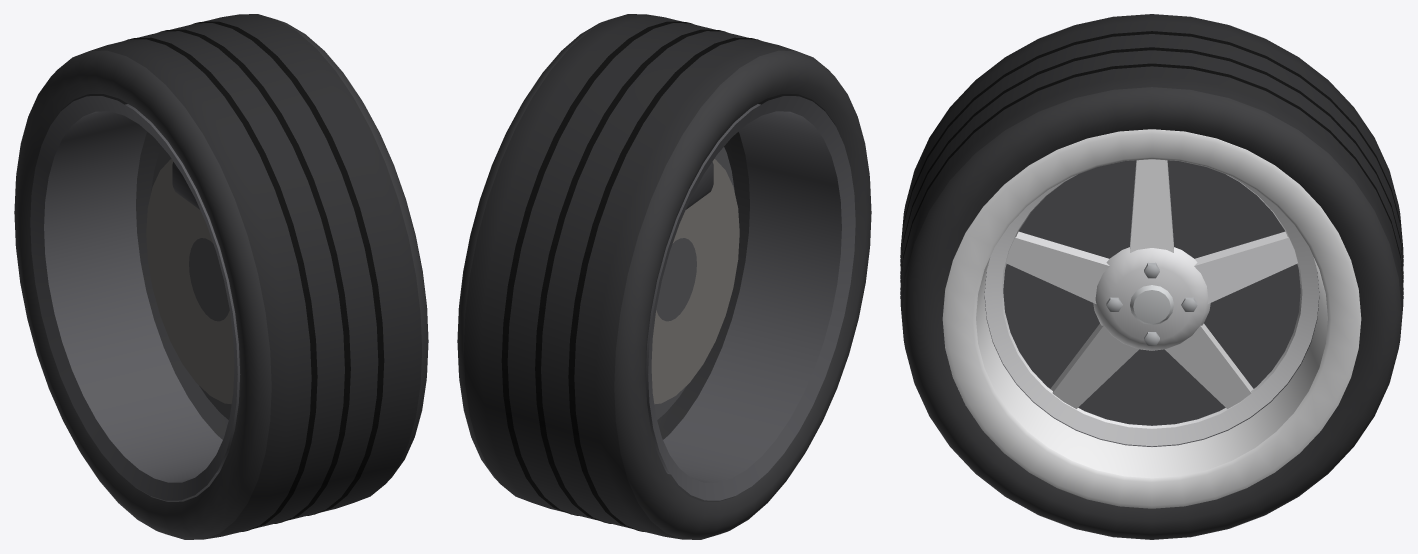
File: wheel_lada_5spoke.glb
3 renders of one model, left to right at view 1: azimuth 30°, elevation 25°; view 2: azimuth 150°, elevation 25°; view 3: azimuth 270°, elevation 25°, orthographic.
Visible parts, largest first — view 1: wheel_lada_5spoke; view 2: wheel_lada_5spoke; view 3: wheel_lada_5spoke.
Part boxes in pixels (x1,y1,x2,y2): wheel_lada_5spoke: (14, 14, 428, 539); wheel_lada_5spoke: (457, 14, 871, 539); wheel_lada_5spoke: (900, 14, 1403, 539).
Size of the model in its own units: 0.245 by 0.5912 by 0.5912.
Materials: 1 (1 with a texture image).
